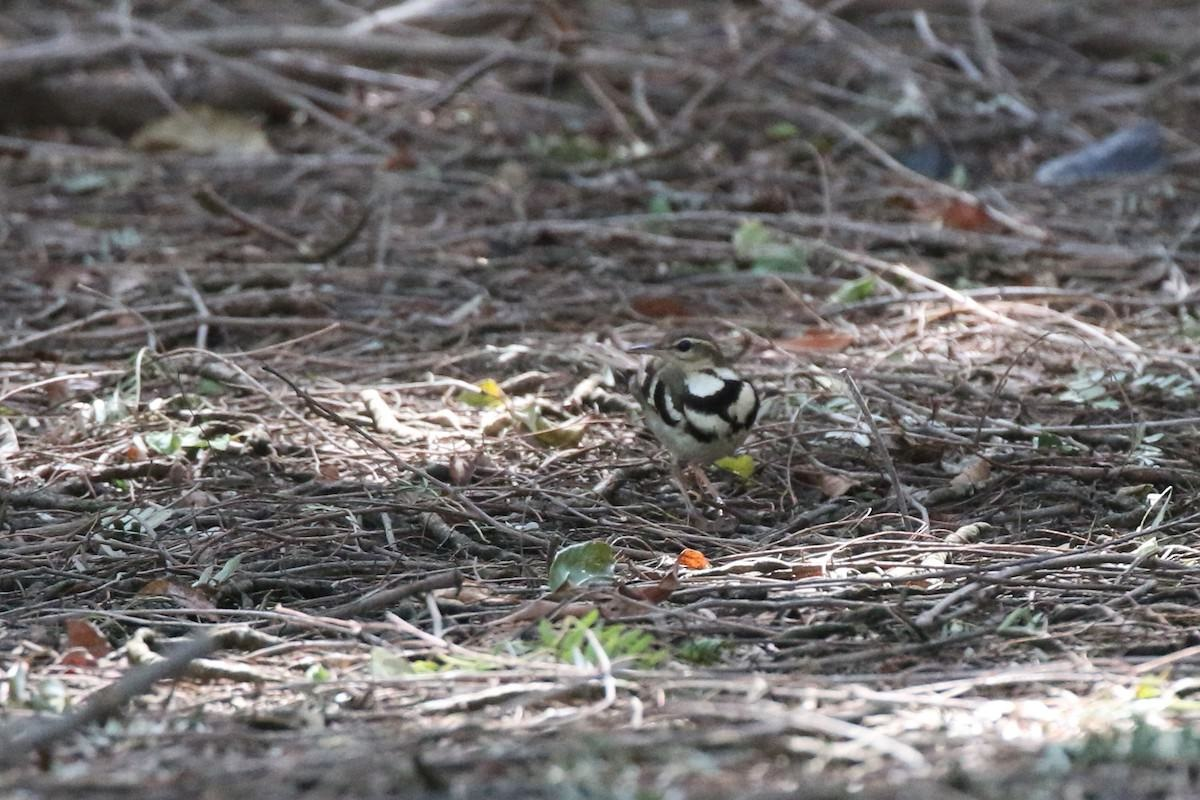wagtail: (624, 332, 776, 491)
